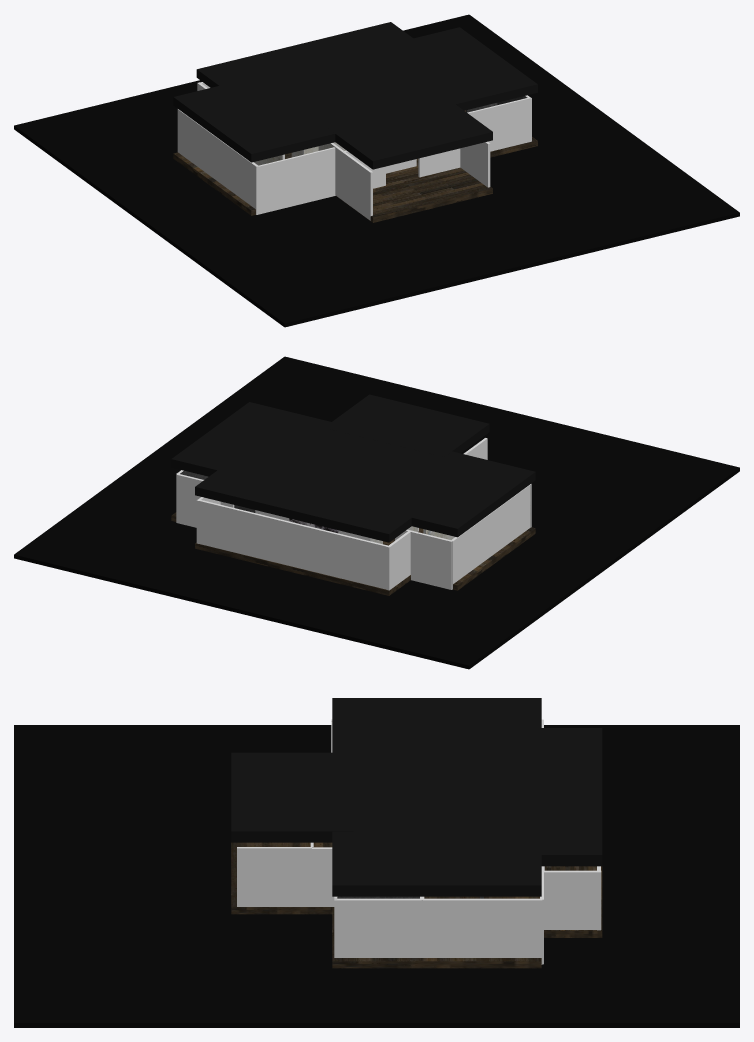
3 renders of one model, top to bottom at view 1: azimuth 30°, elevation 25°; view 2: azimuth 150°, elevation 25°; view 3: azimuth 270°, elevation 25°, orthographic. The views are drawn at different scales.
Visible parts, largest first — view 1: Terreno, Techo, Piso, Cube.021, Cube.011, Cube.020, Cube.027, Cube.019, Cube.028, Cube.002; view 2: Terreno, Techo, Cube.015, Piso, Cube.018, Cube.020, Cube.019, Cube.016, Cube.012; view 3: Terreno, Techo, Cube.013, Piso, Cube.010, Cube.028, Cube.014, Cube.032.
Boxes of the visible parts, left/top/right/bottom form: Terreno: left=14, top=14, right=739, bottom=327; Techo: left=173, top=22, right=537, bottom=169; Piso: left=173, top=110, right=537, bottom=222; Cube.021: left=255, top=147, right=335, bottom=214; Cube.011: left=467, top=97, right=530, bottom=151; Cube.020: left=178, top=109, right=222, bottom=184; Cube.027: left=342, top=152, right=372, bottom=220; Cube.019: left=222, top=141, right=258, bottom=208; Cube.028: left=460, top=141, right=490, bottom=187; Cube.002: left=418, top=148, right=460, bottom=177; Terreno: left=14, top=356, right=739, bottom=669; Techo: left=171, top=394, right=535, bottom=542; Cube.015: left=197, top=499, right=389, bottom=589; Piso: left=171, top=512, right=535, bottom=595; Cube.018: left=395, top=529, right=452, bottom=589; Cube.020: left=450, top=509, right=497, bottom=589; Cube.019: left=497, top=484, right=531, bottom=551; Cube.016: left=386, top=531, right=410, bottom=590; Cube.012: left=176, top=474, right=234, bottom=527; Terreno: left=14, top=725, right=739, bottom=1027; Techo: left=231, top=698, right=602, bottom=896; Cube.013: left=423, top=898, right=542, bottom=964; Piso: left=231, top=842, right=602, bottom=968; Cube.010: left=334, top=898, right=421, bottom=957; Cube.028: left=237, top=847, right=311, bottom=906; Cube.014: left=544, top=870, right=601, bottom=929; Cube.032: left=312, top=847, right=334, bottom=906.
Bounding box in the file's own units: 39.48 × 5.44 × 40.66.
Materials: 7 (4 with a texture image).
